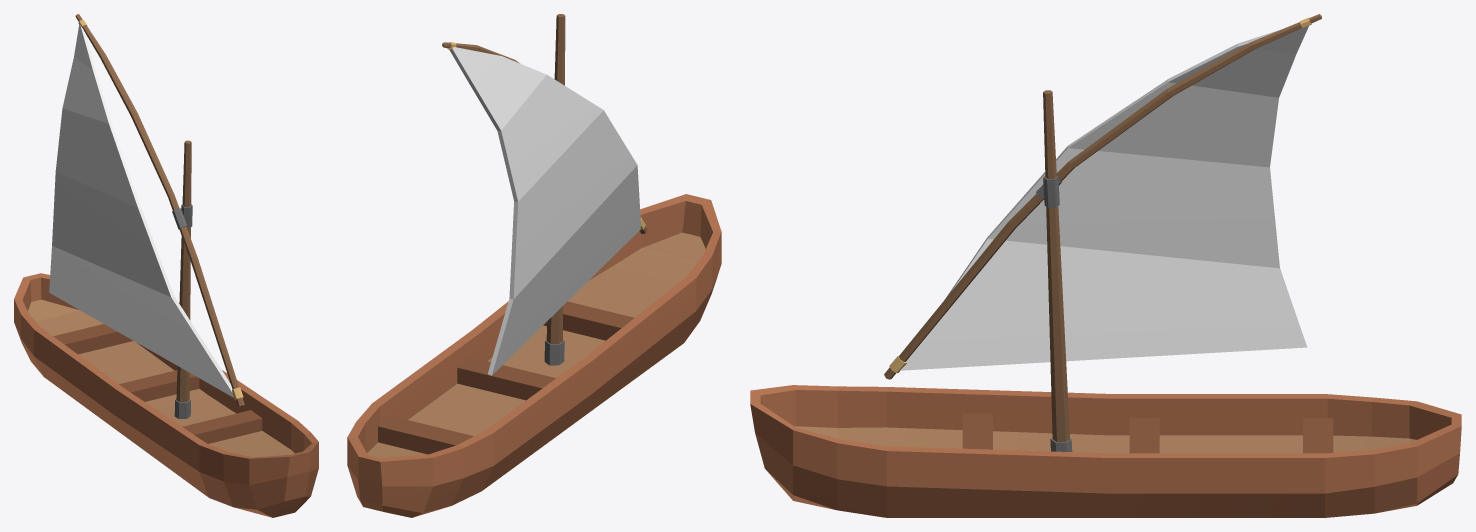
Rendered from sailboat.glb.
3 views of the same model, side by side, from view 1: azimuth 30°, elevation 25°; view 2: azimuth 150°, elevation 25°; view 3: azimuth 270°, elevation 25° (orthographic). The views are drawn at different scales.
Parts seen in each view (by area): view 1: sailboat; view 2: sailboat; view 3: sailboat.
Boxes of the visible parts, box(x1,y1,x2,y2) form: sailboat: box(14, 14, 318, 517); sailboat: box(347, 14, 721, 517); sailboat: box(750, 14, 1461, 517).
Size of the model in its own units: 1.69 by 5.97 by 7.93.
1 material, 1 textured.
